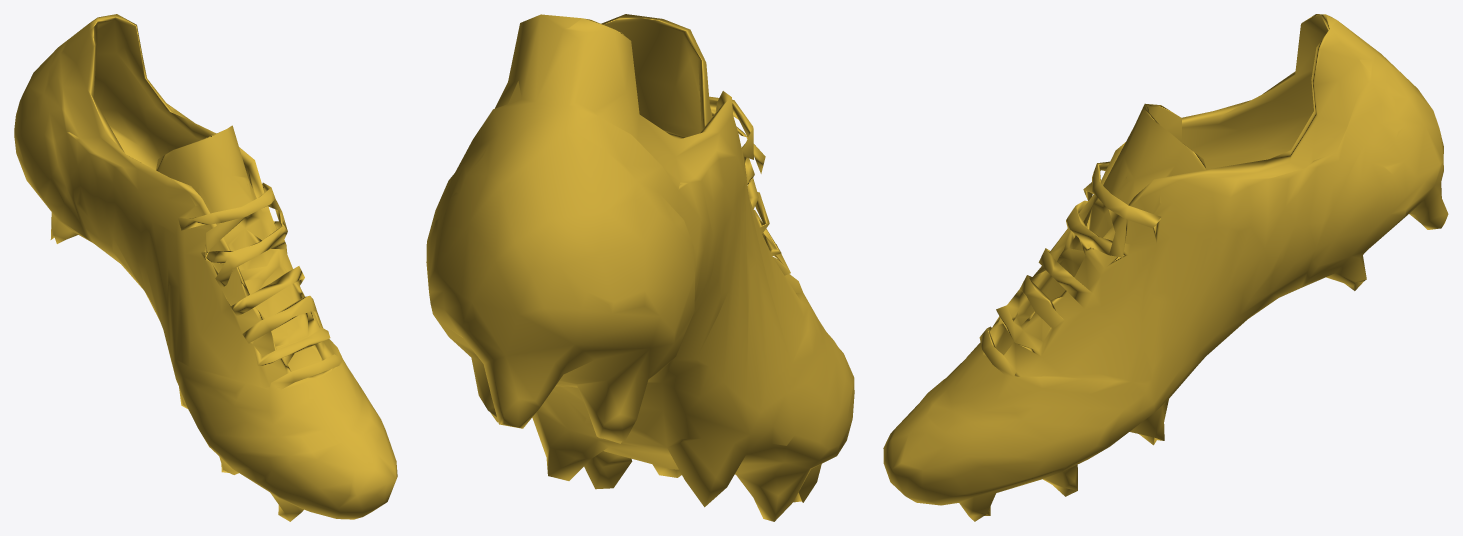
Rendered from boot.glb.
3 views of the same model, side by side, from view 1: azimuth 30°, elevation 25°; view 2: azimuth 150°, elevation 25°; view 3: azimuth 270°, elevation 25° (orthographic). The views are drawn at different scales.
Parts seen in each view (by area): view 1: tripo_node_63e1463c-354c-49d8-be4c-9569fbe1078c; view 2: tripo_node_63e1463c-354c-49d8-be4c-9569fbe1078c; view 3: tripo_node_63e1463c-354c-49d8-be4c-9569fbe1078c.
Part boxes in pixels (bbox=[...]): tripo_node_63e1463c-354c-49d8-be4c-9569fbe1078c: bbox=[14, 14, 397, 521]; tripo_node_63e1463c-354c-49d8-be4c-9569fbe1078c: bbox=[426, 14, 854, 521]; tripo_node_63e1463c-354c-49d8-be4c-9569fbe1078c: bbox=[883, 14, 1448, 521].
Bounding box in the file's own units: 0.4478 × 0.8782 × 1.
